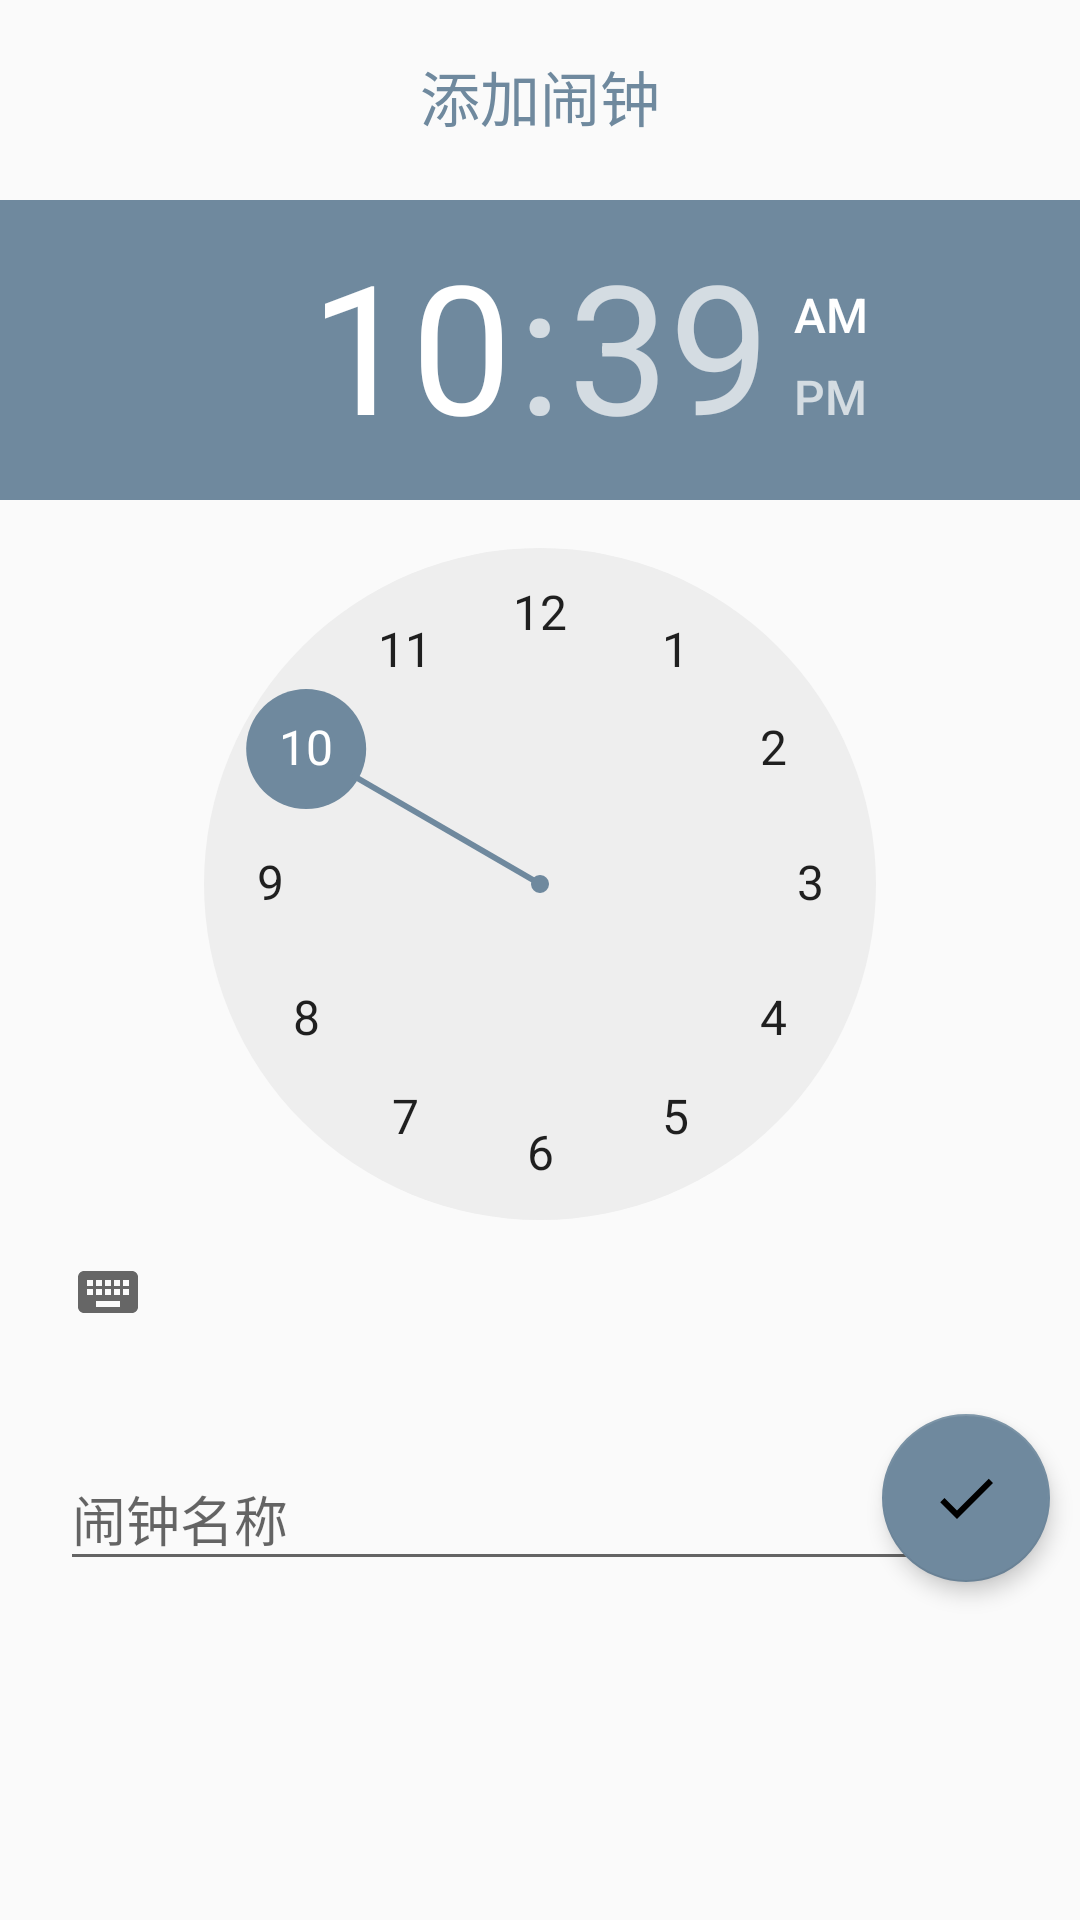

Point at icon controls on the screen. Image size 1080*1920, points as (x,y).
done: (966,1498)
